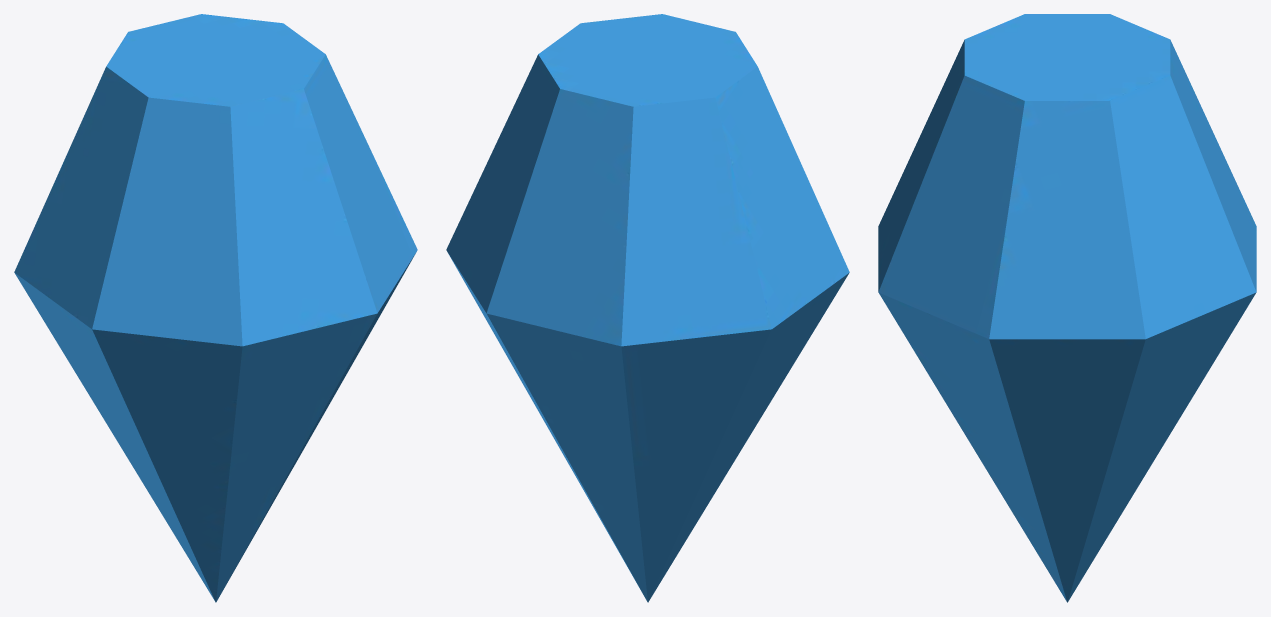
3 views of the same model, side by side, from view 1: azimuth 30°, elevation 25°; view 2: azimuth 150°, elevation 25°; view 3: azimuth 270°, elevation 25° (orthographic).
Visible parts, largest first — view 1: Crystal_Blue_Refractive; view 2: Crystal_Blue_Refractive; view 3: Crystal_Blue_Refractive.
Boxes of the visible parts, bbox=[...] form: Crystal_Blue_Refractive: bbox=[14, 14, 417, 602]; Crystal_Blue_Refractive: bbox=[446, 14, 849, 602]; Crystal_Blue_Refractive: bbox=[878, 14, 1256, 602].
Size of the model in its own units: 0.6282 by 1 by 0.6282.
1 material, 1 textured.
